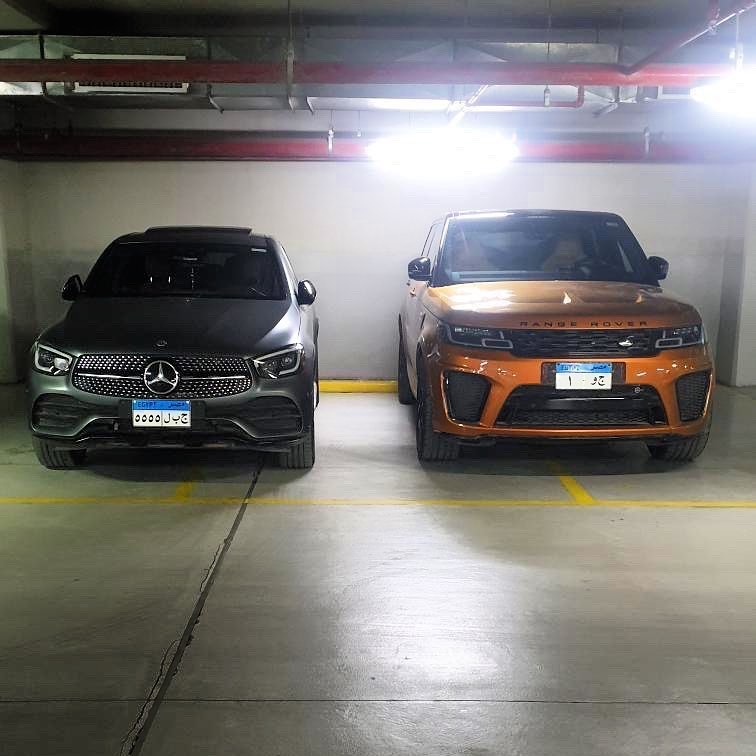carpl: (554, 359, 617, 392), (128, 405, 194, 429)
